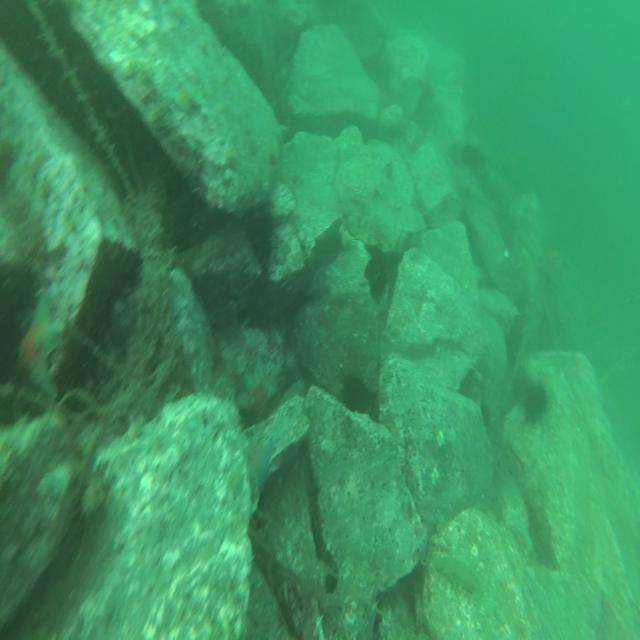echinus: (521, 374, 553, 430)
holothurian: (435, 544, 484, 604)
starfish: (14, 288, 67, 399), (236, 358, 276, 422), (163, 73, 202, 118), (246, 430, 275, 490)
